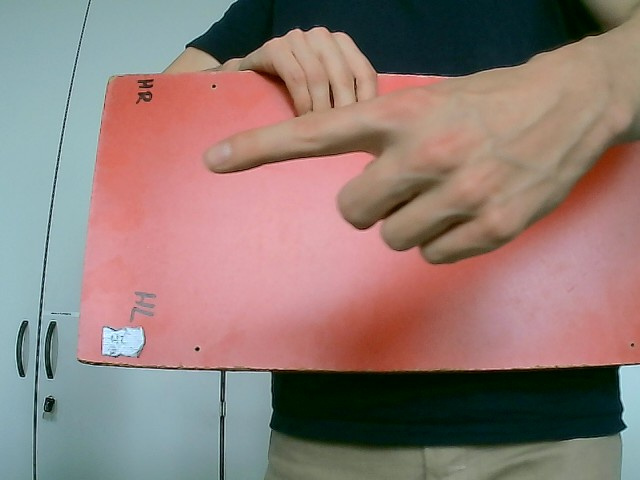no_gesture: (220, 26, 382, 118)
right: (201, 13, 638, 267)
